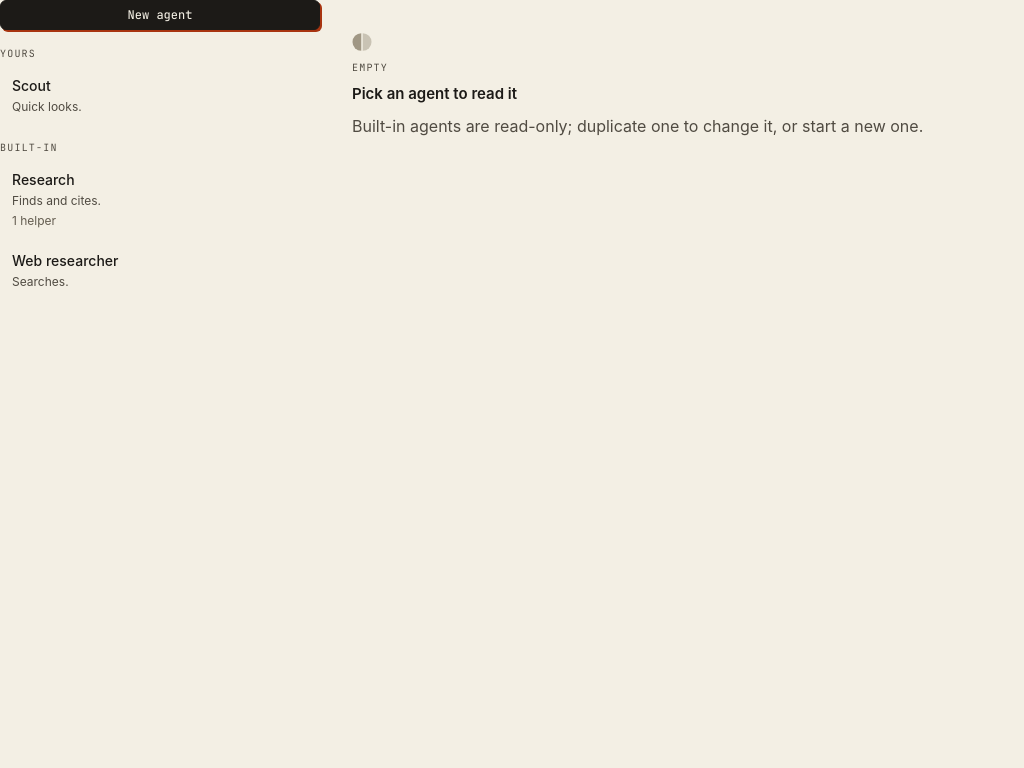
Test: AgentsSettings › opens a built-in read-only with a way to copy it, and no Save or Delete
The width and height of the screenshot is (1024, 768).
Click the button "Research Finds and cites. 1 helper": (43, 180) [0, 161, 320, 238]
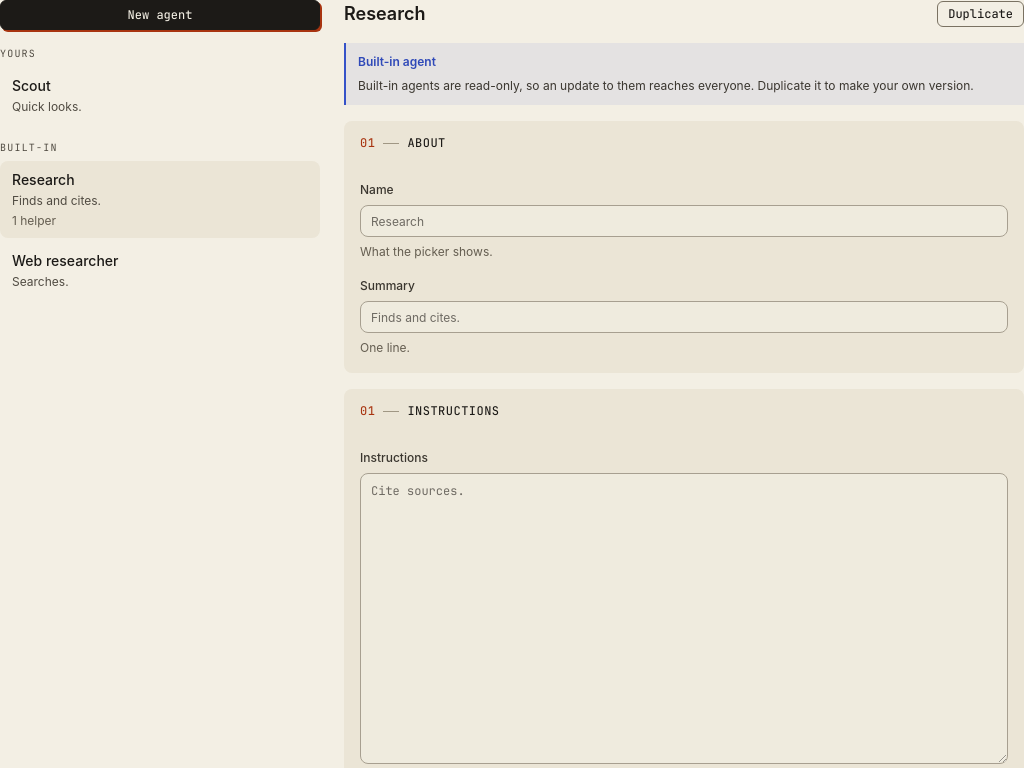
Expected: the text "Built-in agents are read-only" is shown, [358, 78, 974, 93]
Result: the field labelled "Name" is disabled at [360, 205, 1008, 237]
